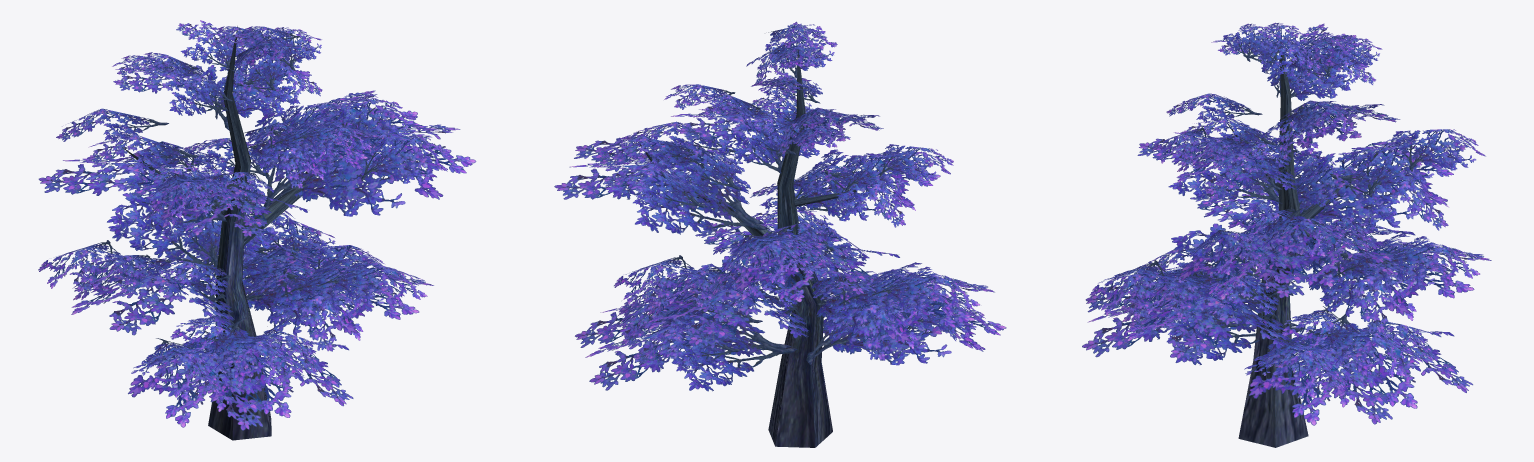
File: M3_P_shu003.FBX
The picture shows the model from 3 angles, left to right: view 1: azimuth 30°, elevation 25°; view 2: azimuth 150°, elevation 25°; view 3: azimuth 270°, elevation 25°; orthographic projection. The views are drawn at different scales.
Parts seen in each view (by area): view 1: M3_P_shu003; view 2: M3_P_shu003; view 3: M3_P_shu003.
Boxes of the visible parts, x1,y1,x2,y2 form: M3_P_shu003: (38, 20, 476, 440); M3_P_shu003: (554, 21, 1006, 447); M3_P_shu003: (1082, 22, 1491, 447).
Bounding box in the file's own units: 856 × 746 × 775.
